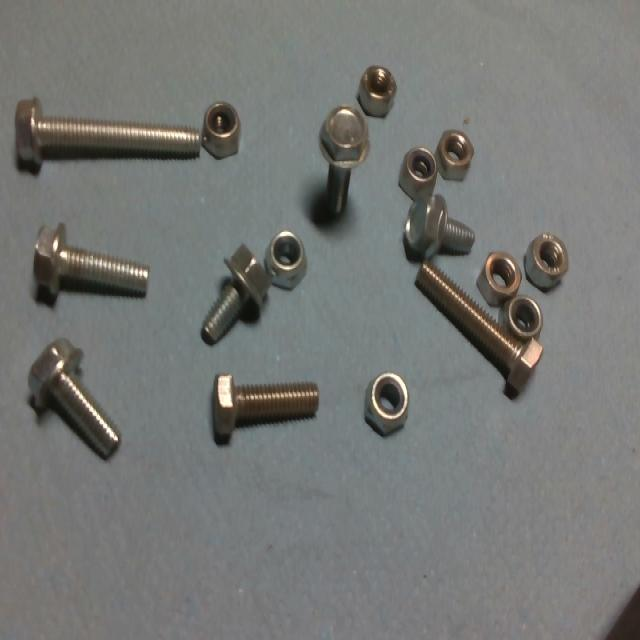Bolt: (413, 263, 542, 397), (15, 97, 201, 175), (27, 339, 123, 461), (33, 223, 149, 307), (211, 373, 320, 441), (201, 244, 270, 344), (316, 101, 371, 219), (404, 196, 474, 265)
Nut: (363, 369, 409, 437), (525, 233, 568, 291), (478, 251, 522, 307), (497, 296, 542, 348), (268, 231, 307, 289), (356, 65, 397, 119), (434, 131, 475, 183), (202, 103, 240, 159), (399, 145, 438, 199)
